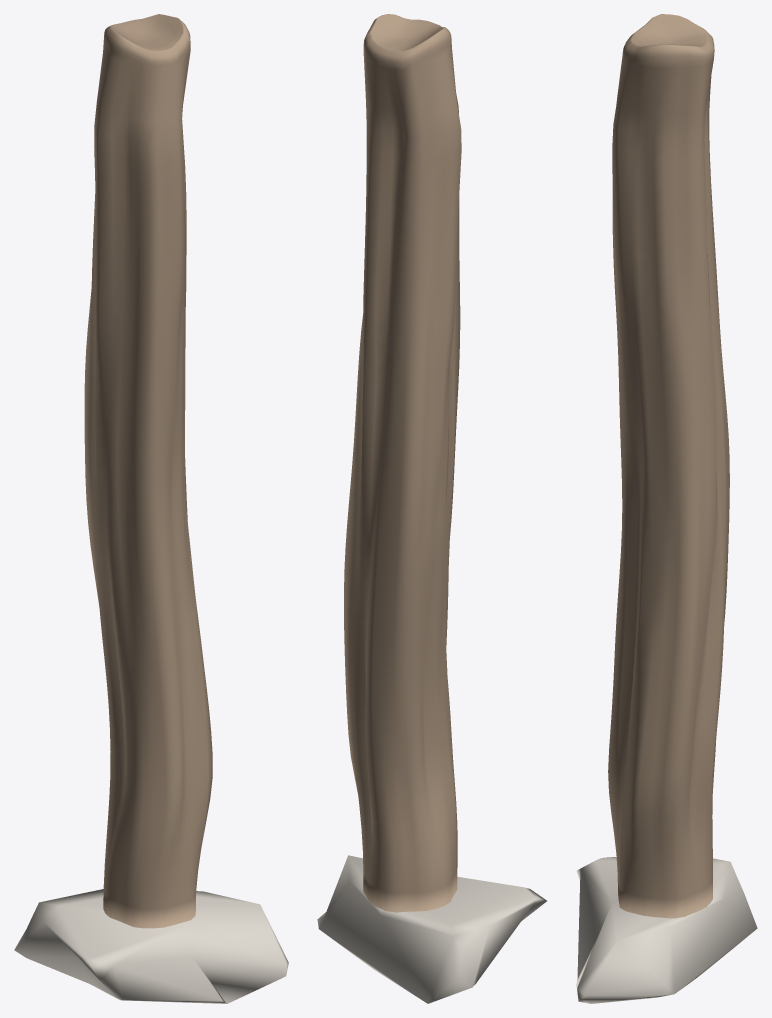
Rendered from bagana-f3-3x13-v2.glb.
3 renders of one model, left to right at view 1: azimuth 30°, elevation 25°; view 2: azimuth 150°, elevation 25°; view 3: azimuth 270°, elevation 25°, orthographic.
Visible parts, largest first — view 1: bagana_wood, bagana_stone; view 2: bagana_wood, bagana_stone; view 3: bagana_wood, bagana_stone.
Boxes of the visible parts, <box> form: bagana_wood: <box>84,14,212,928</box>; bagana_stone: <box>14,889,288,1003</box>; bagana_wood: <box>344,14,461,912</box>; bagana_stone: <box>317,855,546,1003</box>; bagana_wood: <box>608,14,729,918</box>; bagana_stone: <box>576,857,757,1003</box>.
Size of the model in its own units: 0.7206 by 3.31 by 0.579.
